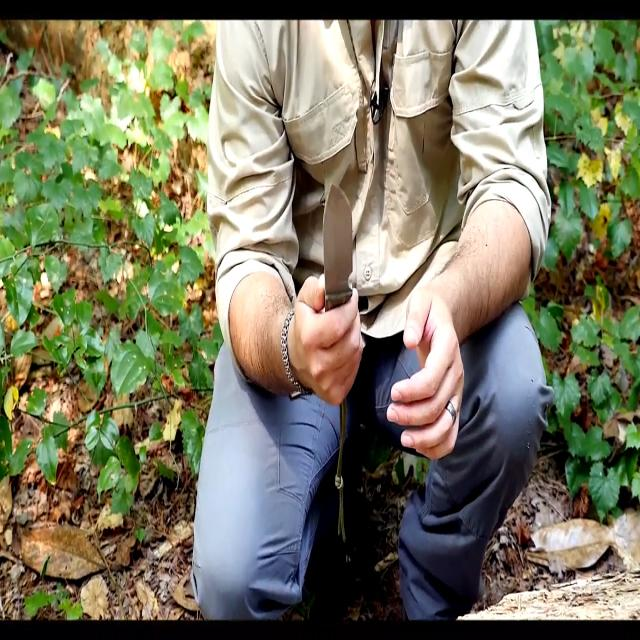knife: (322, 184, 358, 307)
